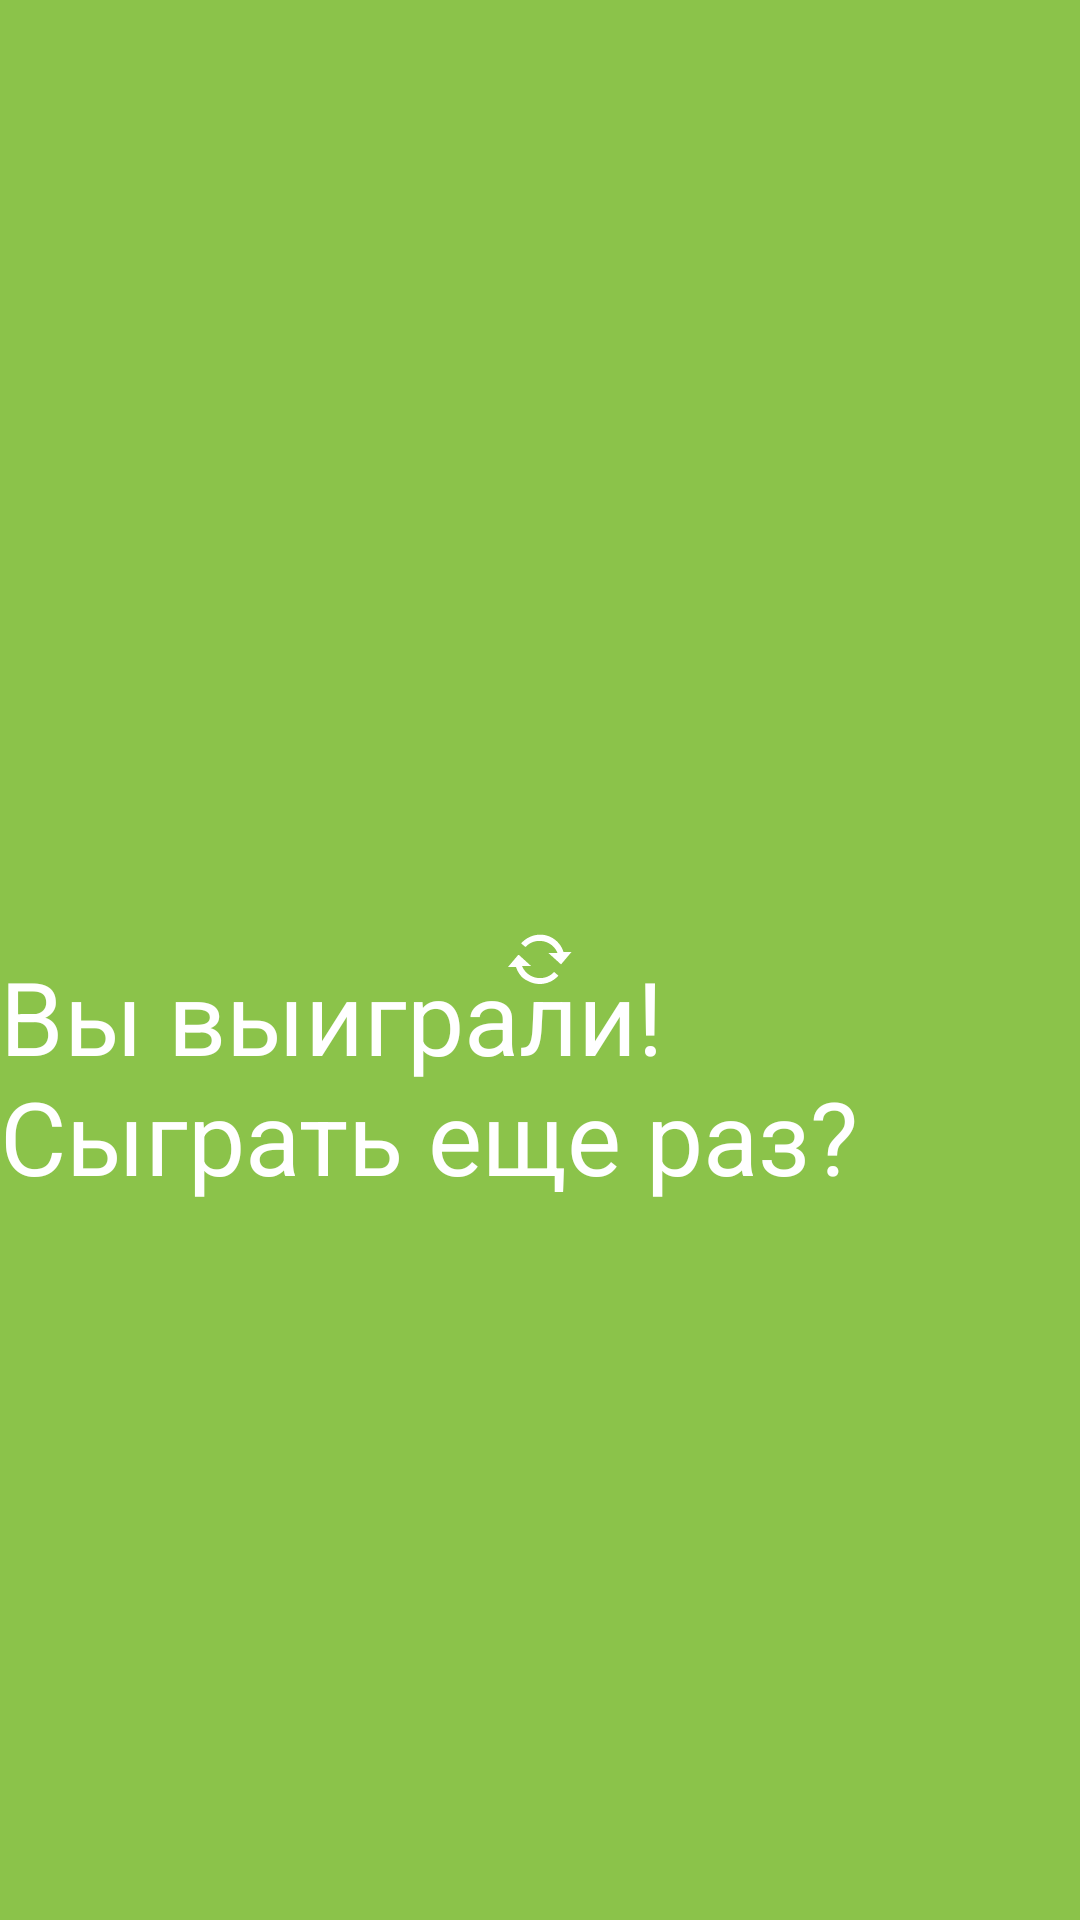

Screen size 1080×1920. Icon name, then its center in pixels as (x=x, y=y):
sync noanim: (x=540, y=959)
